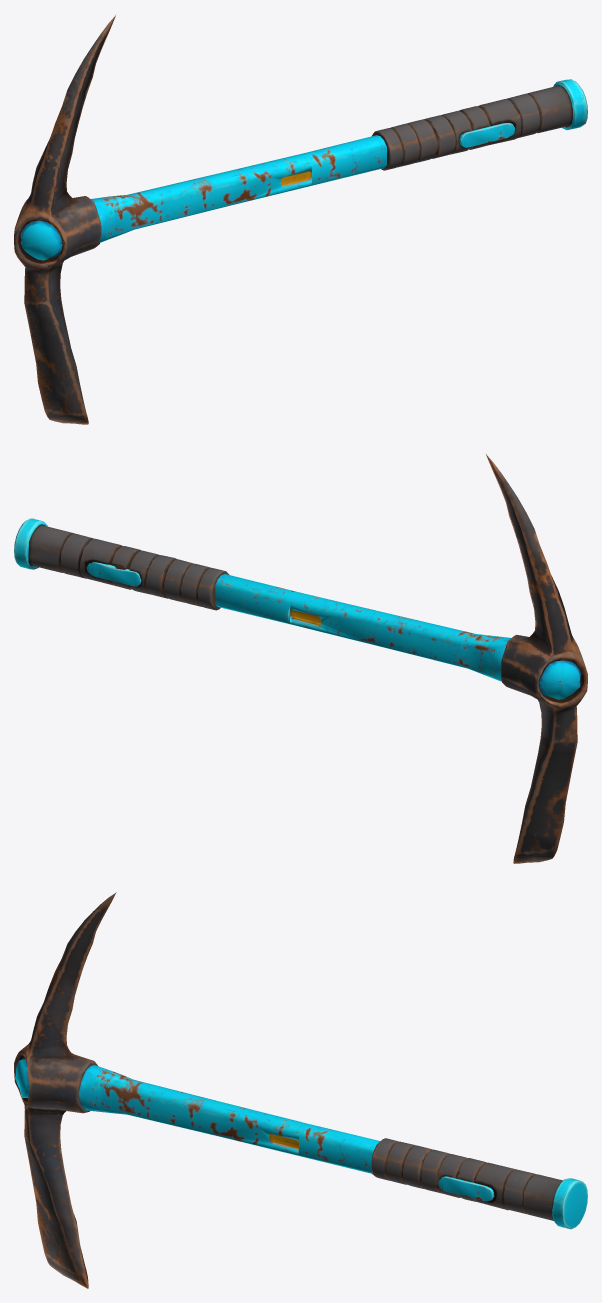
File: steel_pickaxe.glb
The picture shows the model from 3 angles, top to bottom: view 1: azimuth 30°, elevation 25°; view 2: azimuth 150°, elevation 25°; view 3: azimuth 330°, elevation 25°; orthographic projection.
Parts seen in each view (by area): view 1: geometry_0; view 2: geometry_0; view 3: geometry_0.
Boxes of the visible parts, x1,y1,x2,y2 form: geometry_0: [14, 15, 587, 424]; geometry_0: [14, 454, 587, 863]; geometry_0: [14, 892, 587, 1288].
Bounding box in the file's own units: 0.9497 × 0.6523 × 0.1069.
1 material, 1 textured.
